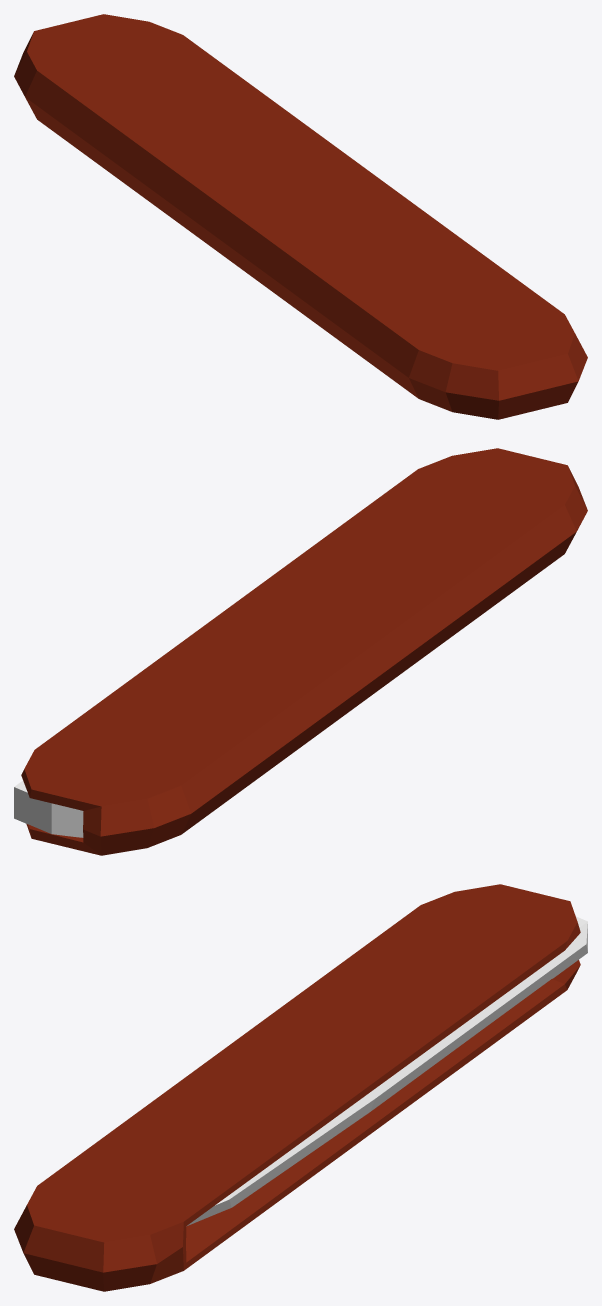
The model's file is Knife_03.fbx.
3 renders of one model, top to bottom at view 1: azimuth 30°, elevation 25°; view 2: azimuth 150°, elevation 25°; view 3: azimuth 330°, elevation 25°, orthographic.
Parts seen in each view (by area): view 1: Knife_03_p1; view 2: Knife_03_p1, Knife_03_p2; view 3: Knife_03_p1, Knife_03_p2.
Boxes of the visible parts, x1,y1,x2,y2 form: Knife_03_p1: (14,14,587,419); Knife_03_p1: (21,448,587,855); Knife_03_p2: (14,780,83,837); Knife_03_p1: (14,884,580,1291); Knife_03_p2: (186,916,587,1226).
Bounding box in the file's own units: 11.74 × 3.5 × 61.6.
